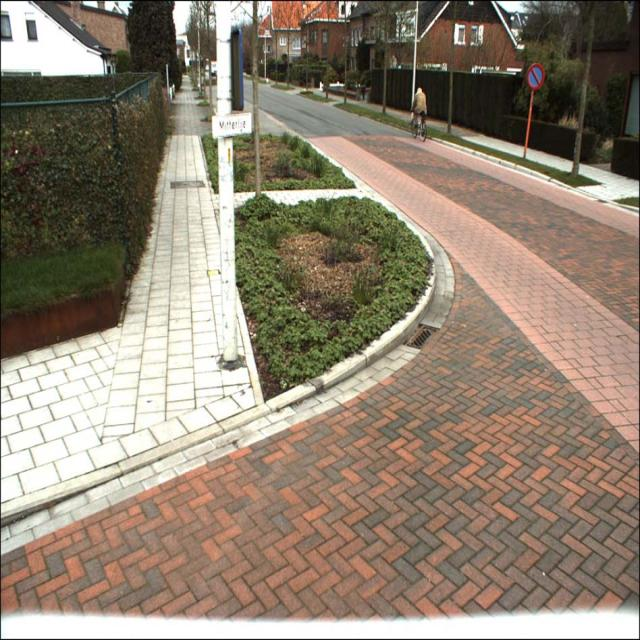parkyasak: (526, 62, 543, 90)
